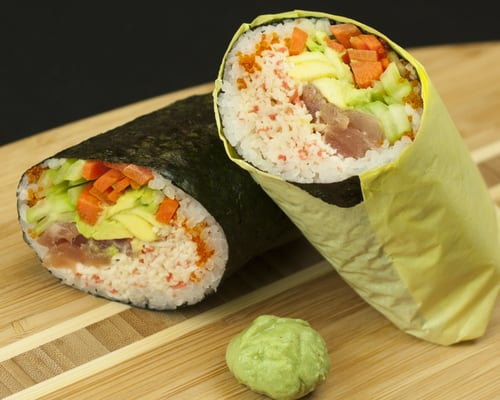curry: (3, 8, 500, 399)
sandwich: (216, 17, 425, 183), (16, 158, 228, 311)
